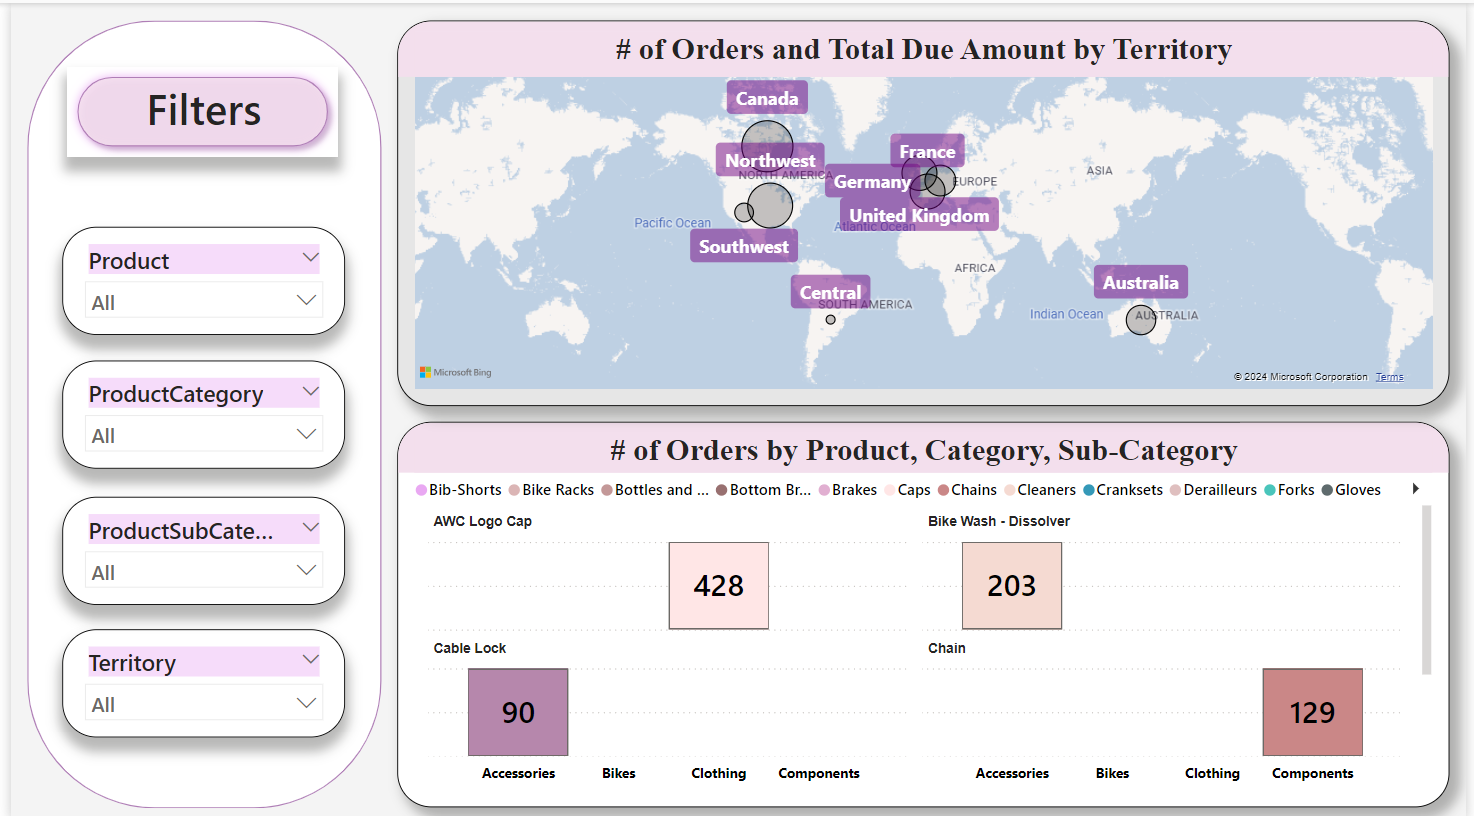

The page's visual inventory and layout, read from the dashboard file:
{"tool":"powerbi","page":{"name":"Report 2","canvas":[1280,720],"ordinal":1},"visuals":[{"type":"hundredPercentStackedColumnChart","title":"# of Orders by Product, Category, Sub-Category","fields":{"Category":["Dim_Product.ProductCategory"],"Y":["Fact_Sales.# of Orders"],"Rows":["Dim_Product.Product"],"Series":["Dim_Product.ProductSubCategory"]},"box":[339.5,368.6,925.6,339.5],"z":0},{"type":"map","fields":{"Size":["Fact_Sales.# of Orders"],"Category":["Dim_Territory.Territory"]},"box":[339.5,15.1,925.6,339.5],"z":1000},{"type":"shape","box":[14,15.1,311.6,693],"z":2000},{"type":"shape","box":[50,55.8,238.4,79.1],"z":4000},{"type":"textbox","box":[102.3,62.8,134.9,65.1],"z":4500},{"type":"slicer","fields":{"Values":["Dim_Product.Product"]},"box":[44.7,196.5,249,94.9],"z":4501},{"type":"slicer","fields":{"Values":["Dim_Product.ProductCategory"]},"box":[44.7,314.9,249,94.9],"z":4502},{"type":"slicer","fields":{"Values":["Dim_Product.ProductSubCategory"]},"box":[44.7,434.4,249,94.9],"z":4503},{"type":"slicer","fields":{"Values":["Dim_Territory.Territory"]},"box":[44.7,550.5,249,94.9],"z":4504}]}

Visuals, with their boxes in screenshot pixels (x1, y1, x2, y2), scaled from the page's 1280x720 canvas onto the 1474x816 screenshot:
"# of Orders by Product, Category, Sub-Category" hundredPercentStackedColumnChart: crop(391, 418, 1457, 803)
map - Fact_Sales.# of Orders x Dim_Territory.Territory: crop(391, 17, 1457, 402)
shape: crop(16, 17, 375, 803)
shape: crop(58, 63, 332, 153)
textbox: crop(118, 71, 273, 145)
slicer - Dim_Product.Product: crop(51, 223, 338, 330)
slicer - Dim_Product.ProductCategory: crop(51, 357, 338, 464)
slicer - Dim_Product.ProductSubCategory: crop(51, 492, 338, 600)
slicer - Dim_Territory.Territory: crop(51, 624, 338, 731)
